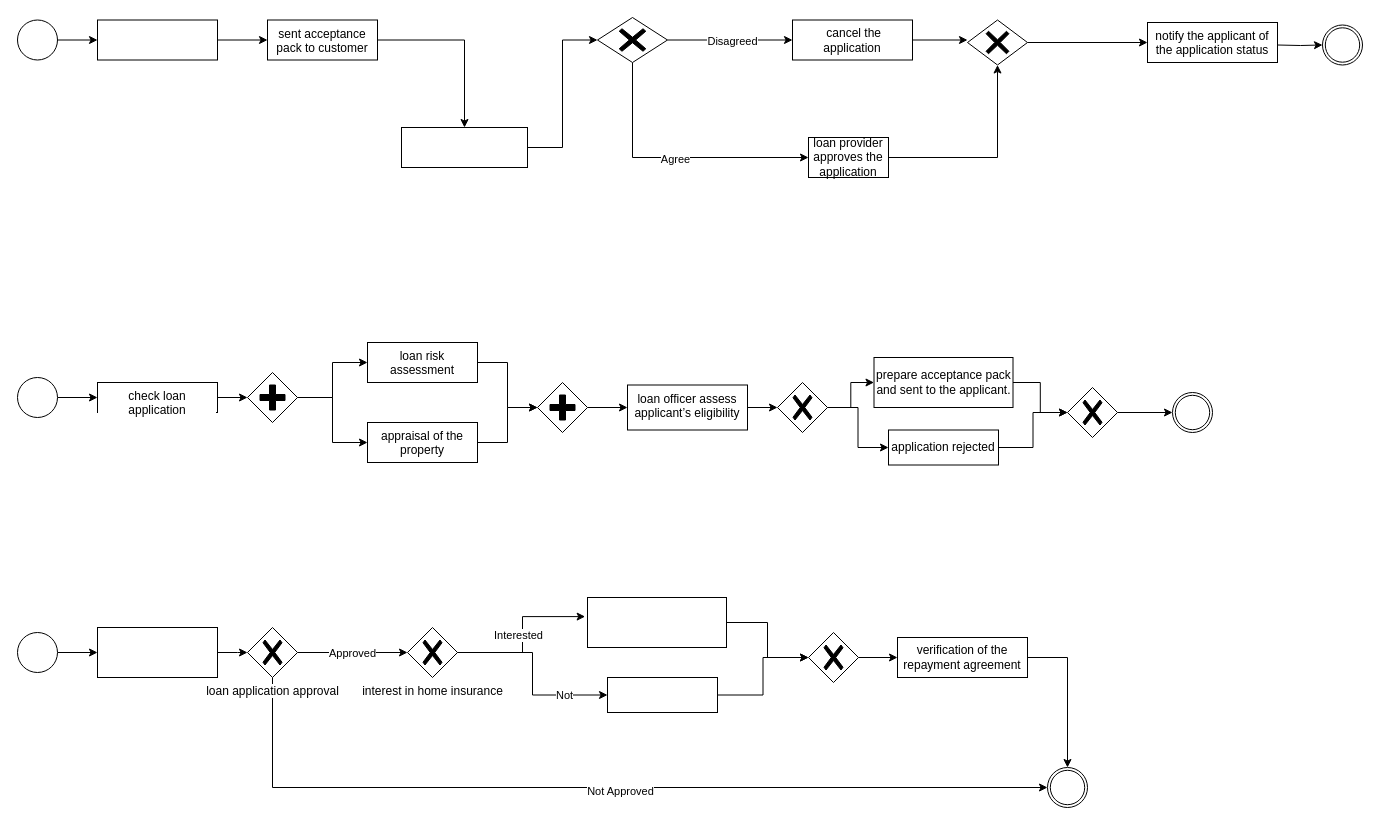
Image size: 1380x825. Some labels were removed from this diagram. Each missing label, with the centre of its shape:
customer send signed documents back: the point at 464,147
loan application is approved: the point at 157,39
Send acceptance pack and home insurance quote: the point at 656,622
Send acceptance pack only: the point at 662,694
send loan application and express interest for home insurance: the point at 157,652
verifies the repayment agreement: the point at 632,39
